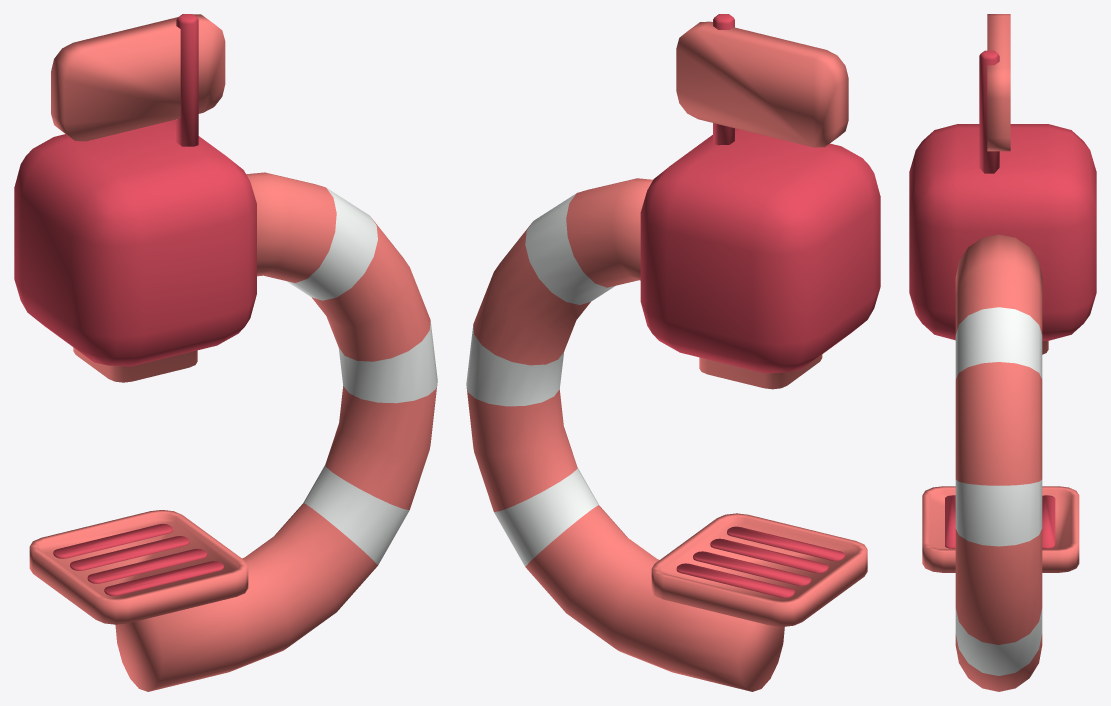
The model's file is Solid food machine1.fbx.
The picture shows the model from 3 angles, left to right: view 1: azimuth 30°, elevation 25°; view 2: azimuth 150°, elevation 25°; view 3: azimuth 270°, elevation 25°; orthographic projection. The views are drawn at different scales.
Parts seen in each view (by area): view 1: Cylinder.017, Cube.044, Cube.045, Cube.048, Cylinder.020, Cube.050, Cube.049, Cube.051, Cube.052; view 2: Cylinder.017, Cube.044, Cube.045, Cube.048, Cube.050, Cube.052, Cube.049, Cube.051, Cylinder.020; view 3: Cylinder.017, Cube.044, Cube.048, Cube.045, Cylinder.020, Cube.052, Cube.051.
Part boxes in pixels (box(x1,y1,x2,y2)): Cylinder.017: box(115, 172, 437, 691); Cube.044: box(14, 119, 256, 382); Cube.045: box(51, 14, 225, 141); Cube.048: box(29, 510, 248, 624); Cylinder.020: box(176, 14, 198, 146); Cube.050: box(87, 549, 207, 583); Cube.049: box(70, 536, 189, 570); Cube.051: box(104, 561, 223, 596); Cube.052: box(53, 523, 172, 558); Cylinder.017: box(466, 178, 784, 691); Cube.044: box(640, 128, 880, 389); Cube.045: box(676, 21, 848, 147); Cube.048: box(651, 513, 867, 626); Cube.050: box(710, 538, 828, 573); Cube.052: box(676, 563, 794, 597); Cube.049: box(693, 551, 811, 585); Cube.051: box(727, 526, 845, 561); Cylinder.020: box(713, 14, 734, 145); Cylinder.017: box(955, 234, 1042, 691); Cube.044: box(909, 124, 1096, 354); Cube.048: box(922, 486, 1079, 572); Cube.045: box(987, 14, 1010, 151); Cylinder.020: box(979, 50, 999, 173); Cube.052: box(1042, 495, 1055, 548); Cube.051: box(945, 495, 955, 548).
Size of the model in its own units: 119 by 198 by 55.61.
